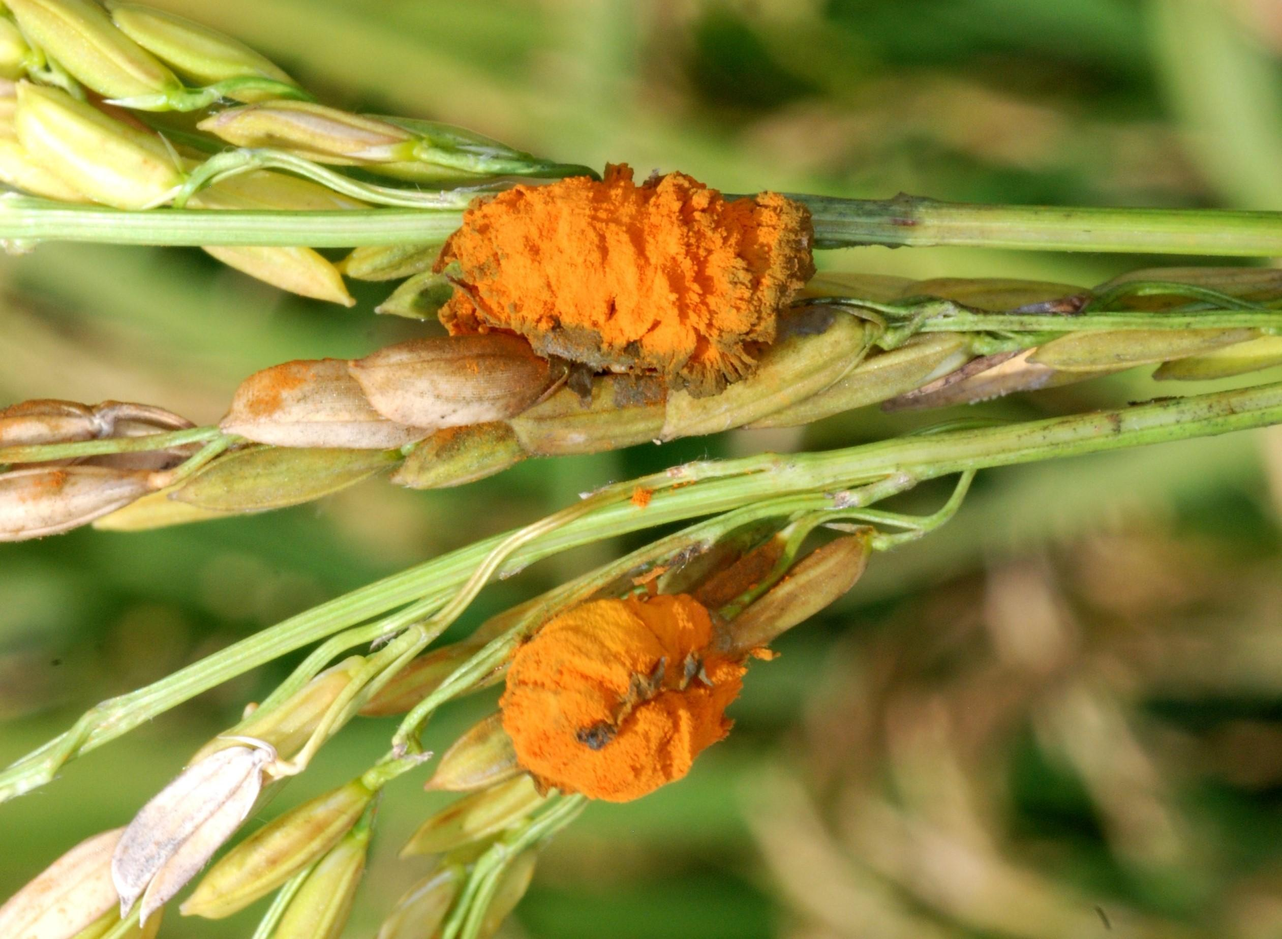False Smut: (422, 158, 823, 397), (491, 580, 775, 811)
